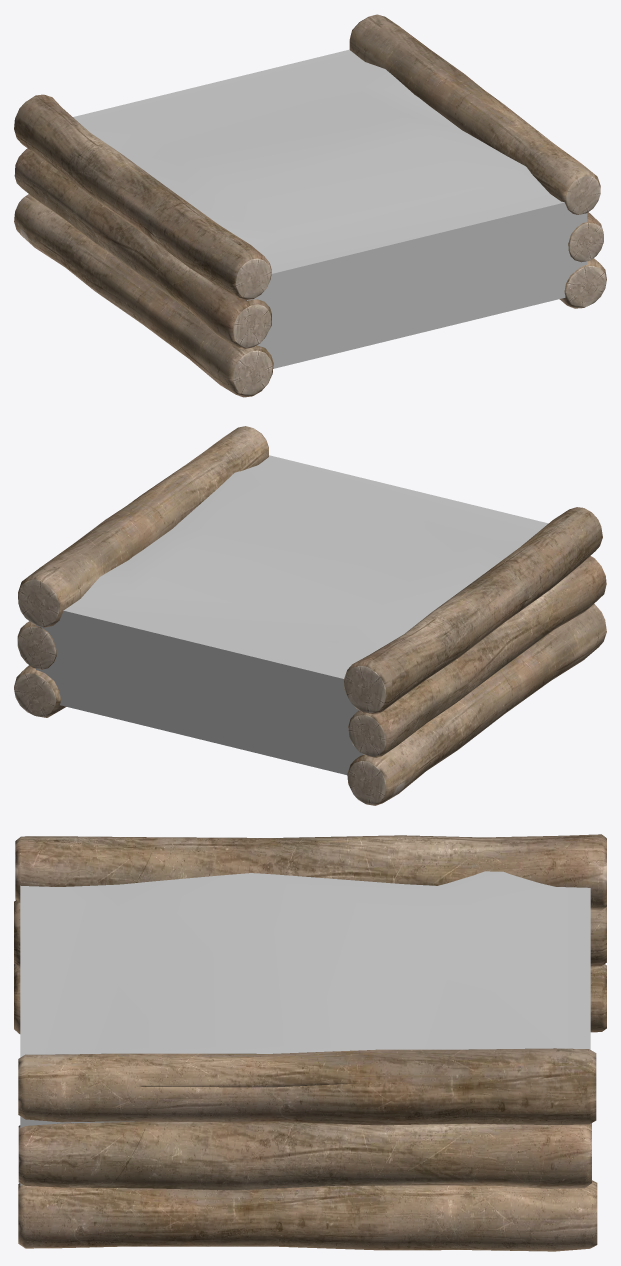
The picture shows the model from 3 angles, top to bottom: view 1: azimuth 30°, elevation 25°; view 2: azimuth 150°, elevation 25°; view 3: azimuth 270°, elevation 25°; orthographic projection. The views are drawn at different scales.
Parts seen in each view (by area): view 1: SM_Ash_Planter_01v5_LOD0; view 2: SM_Ash_Planter_01v5_LOD0; view 3: SM_Ash_Planter_01v5_LOD0.
Boxes of the visible parts, box(x1,y1,x2,y2) form: SM_Ash_Planter_01v5_LOD0: box(14, 14, 606, 397); SM_Ash_Planter_01v5_LOD0: box(14, 426, 606, 805); SM_Ash_Planter_01v5_LOD0: box(14, 834, 606, 1251).
Bounding box in the file's own units: 3.17 × 1.17 × 3.12.
